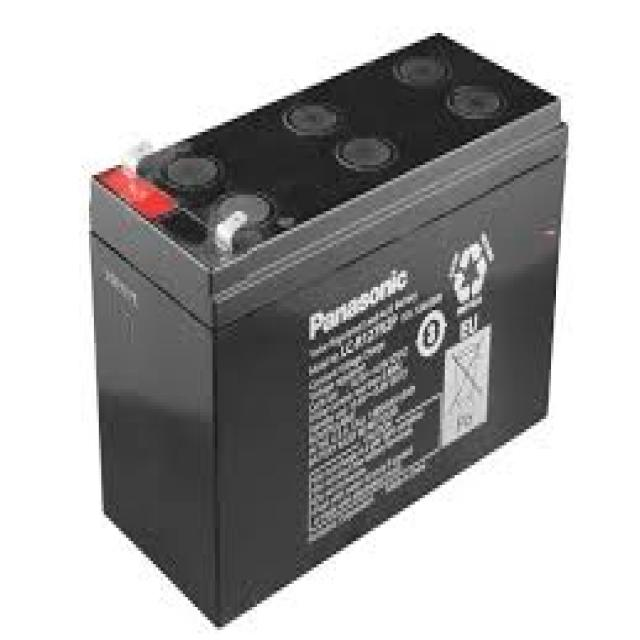non-organic waste: (91, 32, 573, 628)
